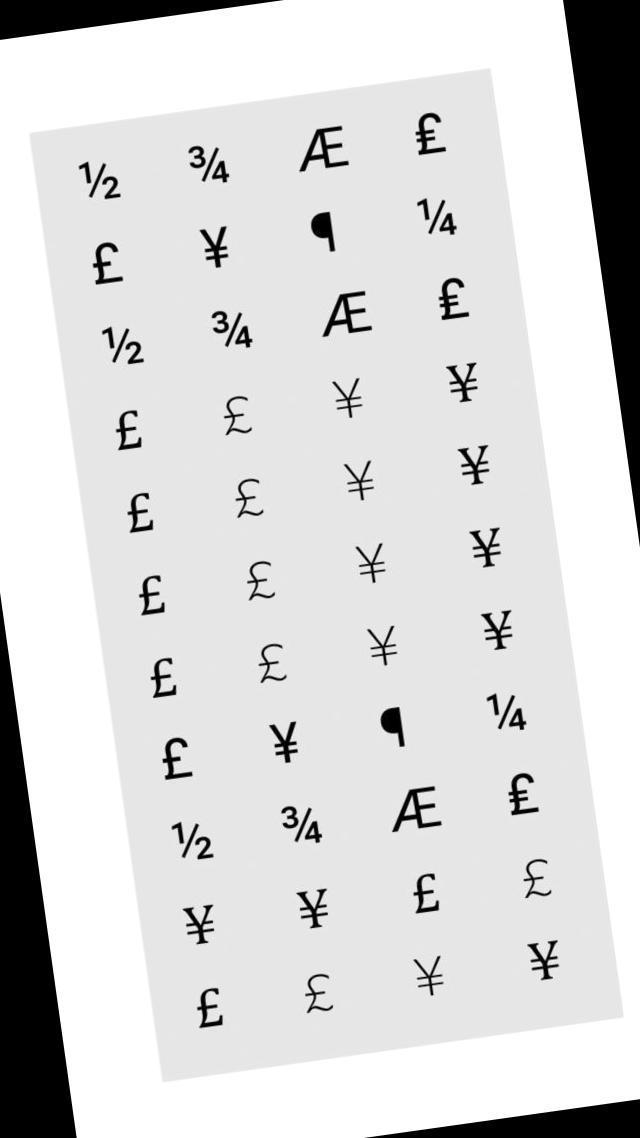ASCII: (288, 116, 359, 181), (315, 284, 379, 348), (65, 146, 127, 212), (384, 774, 446, 838), (205, 298, 261, 364), (98, 313, 151, 378), (276, 794, 328, 858), (168, 810, 220, 872), (183, 134, 235, 195), (406, 103, 458, 164), (522, 929, 570, 995), (482, 680, 533, 742), (85, 233, 132, 298), (292, 874, 338, 940), (178, 890, 224, 956), (441, 351, 486, 418), (414, 188, 464, 248), (430, 266, 476, 330), (213, 385, 259, 449), (499, 763, 545, 826), (452, 435, 498, 497), (155, 730, 200, 793), (225, 468, 270, 530), (476, 601, 521, 662), (328, 370, 372, 432), (194, 218, 238, 279), (408, 948, 452, 1009), (464, 516, 508, 577), (362, 618, 406, 679), (338, 451, 382, 512), (238, 554, 282, 614), (250, 634, 294, 694), (295, 958, 338, 1019), (516, 846, 559, 906), (108, 402, 150, 463), (188, 981, 230, 1042), (350, 534, 394, 592), (264, 713, 307, 772), (406, 861, 448, 921), (120, 483, 162, 543), (132, 568, 174, 628), (142, 651, 183, 711), (304, 202, 341, 258), (374, 699, 411, 755)
